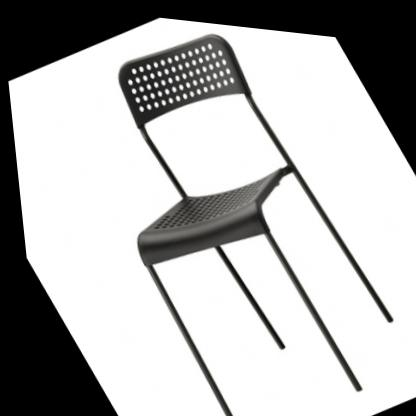Chair: (25, 2, 416, 416)
